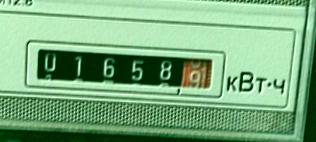0: (44, 51, 58, 73)
1: (74, 55, 85, 77)
5: (131, 58, 146, 82)
6: (102, 56, 117, 79)
8: (159, 59, 174, 81)
9: (187, 69, 201, 90)
screen: (19, 35, 234, 104)
